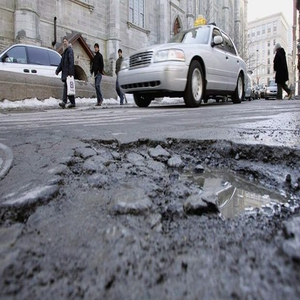pothole: (91, 137, 300, 264)
